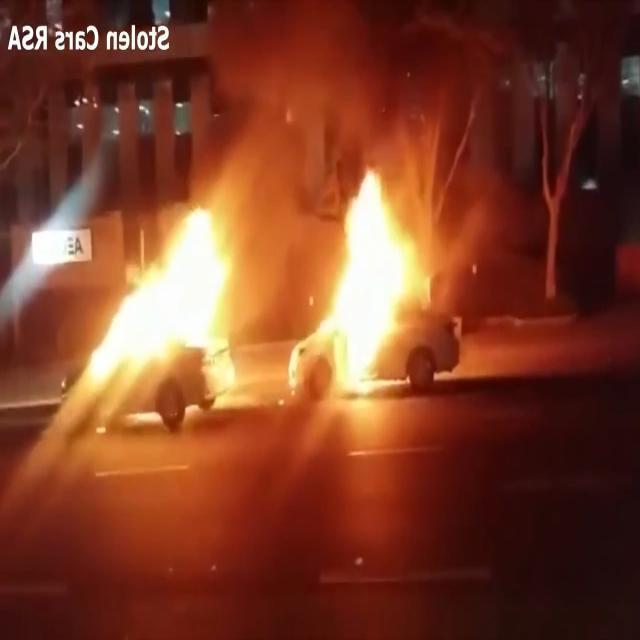fire: (82, 208, 234, 358), (330, 166, 414, 372)
